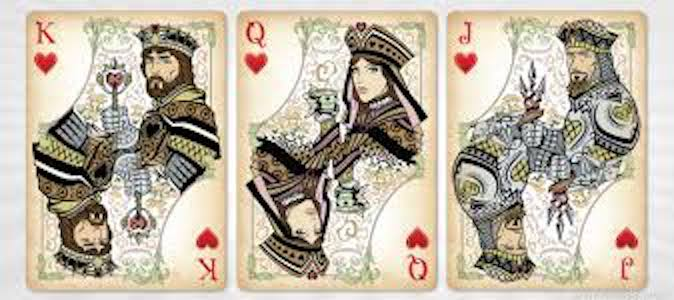JackOfHearts: (444, 6, 652, 295)
KingOfHearts: (21, 6, 231, 294)
QueenOfDiamonds: (232, 7, 443, 297)
